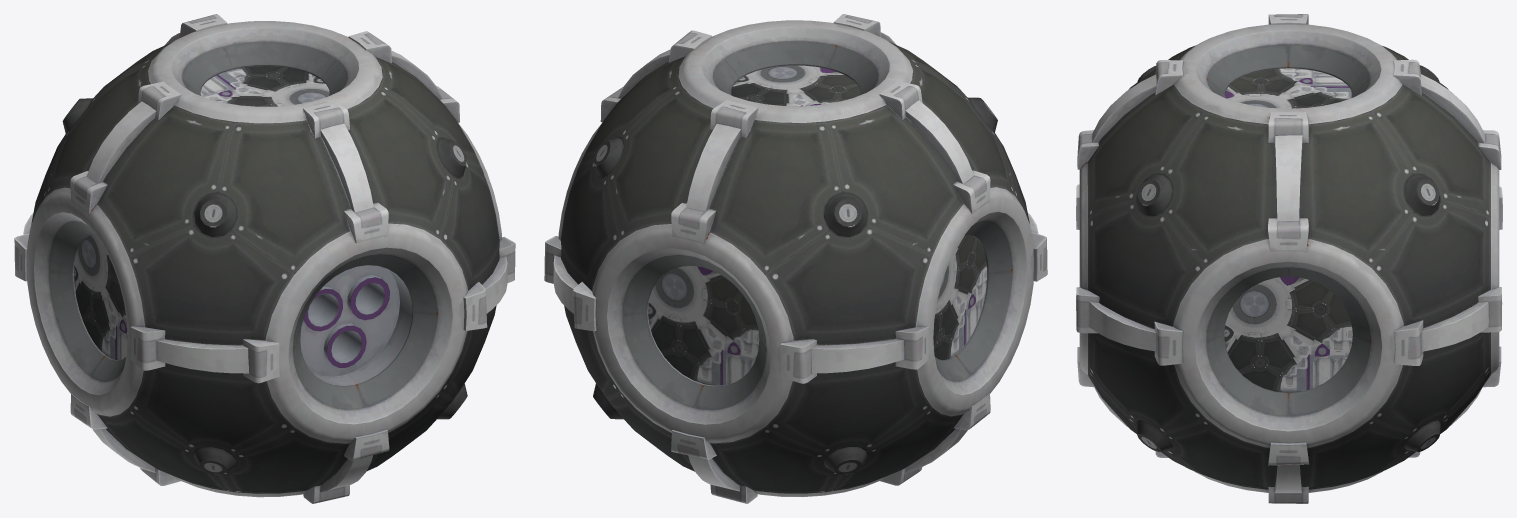
The model's file is i.o._bomb.glb.
The picture shows the model from 3 angles, left to right: view 1: azimuth 30°, elevation 25°; view 2: azimuth 150°, elevation 25°; view 3: azimuth 270°, elevation 25°; orthographic projection.
Visible parts, largest first — view 1: SM_Tinfoil_Device_01_LOD0.mo; view 2: SM_Tinfoil_Device_01_LOD0.mo; view 3: SM_Tinfoil_Device_01_LOD0.mo.
Boxes of the visible parts, x1,y1,x2,y2 form: SM_Tinfoil_Device_01_LOD0.mo: (14,14,515,503); SM_Tinfoil_Device_01_LOD0.mo: (544,14,1047,503); SM_Tinfoil_Device_01_LOD0.mo: (1076,14,1502,503).
Bounding box in the file's own units: 2.02 × 2.01 × 2.02.
1 material, 1 textured.
